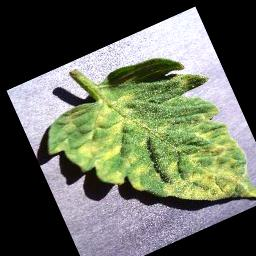Leaf_Mold: (29, 37, 256, 256)
